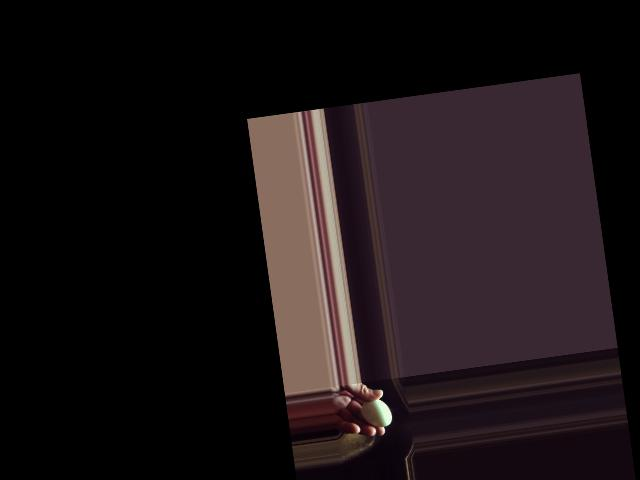egg: (359, 396, 392, 428)
